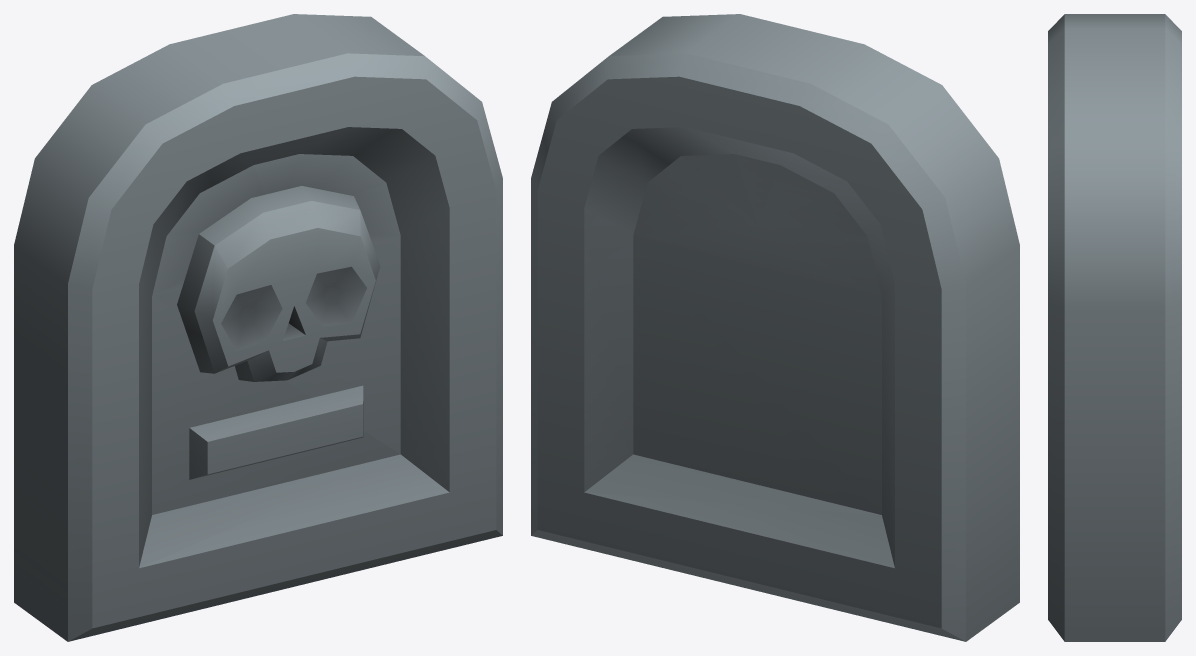
The model's file is gravestone.glb.
3 renders of one model, left to right at view 1: azimuth 30°, elevation 25°; view 2: azimuth 150°, elevation 25°; view 3: azimuth 270°, elevation 25°, orthographic. The views are drawn at different scales.
Parts seen in each view (by area): view 1: gravestone; view 2: gravestone; view 3: gravestone.
Part boxes in pixels (<box>): gravestone: <box>14,14,502,641</box>; gravestone: <box>531,14,1019,641</box>; gravestone: <box>1048,14,1181,641</box>.
Bounding box in the file's own units: 1.4 × 1.6 × 0.4001.
1 material, 1 textured.
